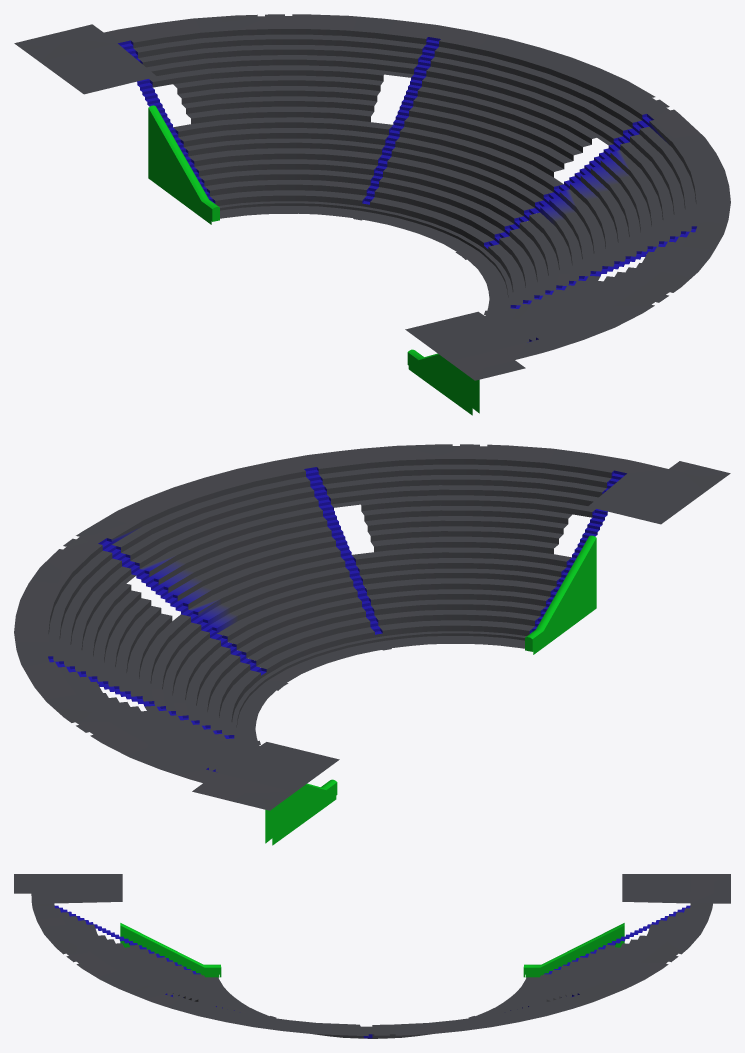
File: Cavea_Bas2.fbx
3 renders of one model, top to bottom at view 1: azimuth 30°, elevation 25°; view 2: azimuth 150°, elevation 25°; view 3: azimuth 270°, elevation 25°, orthographic. The views are drawn at different scales.
Visible parts, largest first — view 1: Cavea_Imma_Bas; view 2: Cavea_Imma_Bas; view 3: Cavea_Imma_Bas.
Boxes of the visible parts, <box> form: Cavea_Imma_Bas: <box>14,14,730,415</box>; Cavea_Imma_Bas: <box>14,444,730,845</box>; Cavea_Imma_Bas: <box>14,874,730,1038</box>.
Size of the model in its own units: 3518 by 797 by 6574.
